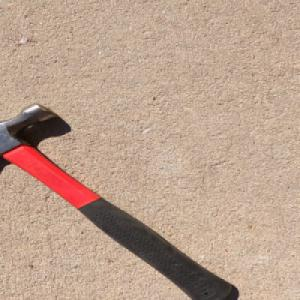Hammer: (0, 102, 240, 300)
